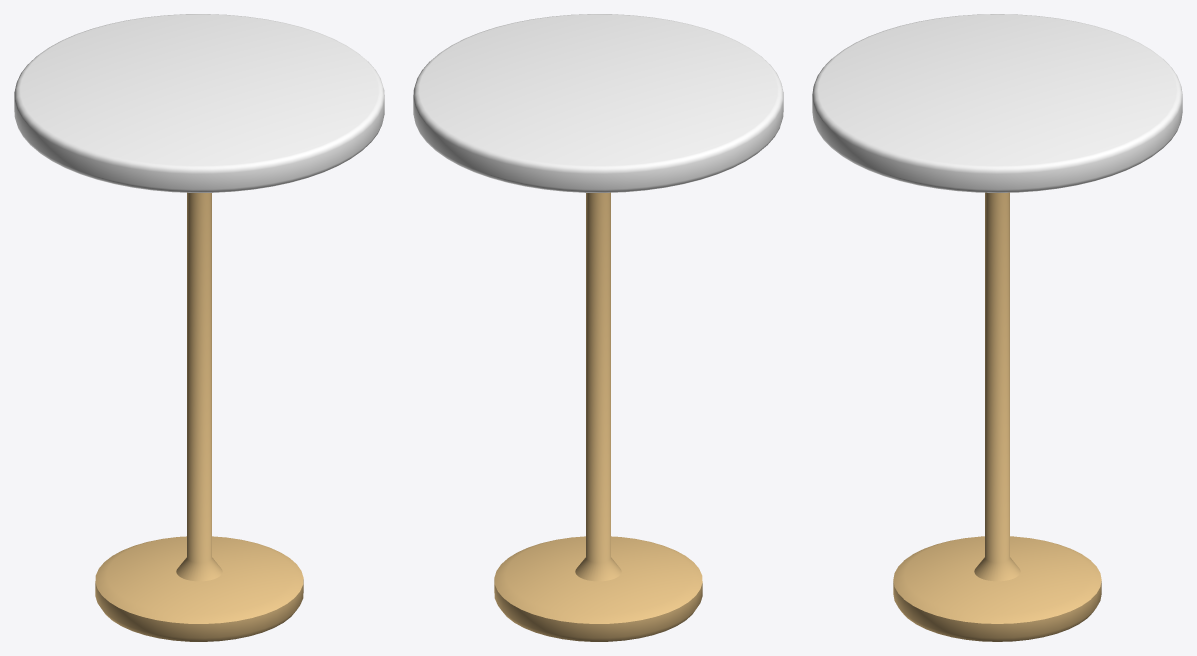
File: JAC_09_Mesa_Sofa.glb
The picture shows the model from 3 angles, left to right: view 1: azimuth 30°, elevation 25°; view 2: azimuth 150°, elevation 25°; view 3: azimuth 270°, elevation 25°; orthographic projection.
Visible parts, largest first — view 1: JAC_09_Mesa_Sofa; view 2: JAC_09_Mesa_Sofa; view 3: JAC_09_Mesa_Sofa.
Part boxes in pixels (x1,y1,x2,y2): JAC_09_Mesa_Sofa: (14,14,384,641); JAC_09_Mesa_Sofa: (413,14,783,641); JAC_09_Mesa_Sofa: (812,14,1182,641).
Bounding box in the file's own units: 0.48 × 0.728 × 0.48.
